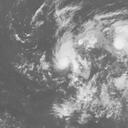cyclone: (52, 41, 88, 77)
